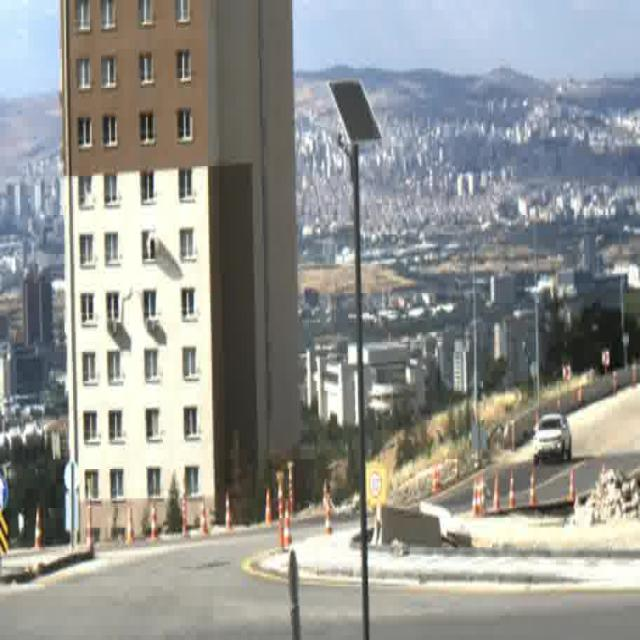Car: (532, 416, 572, 466)
